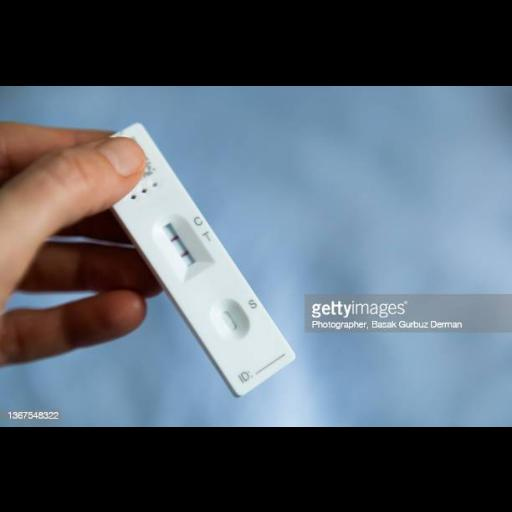Pos: (79, 119, 300, 397)
